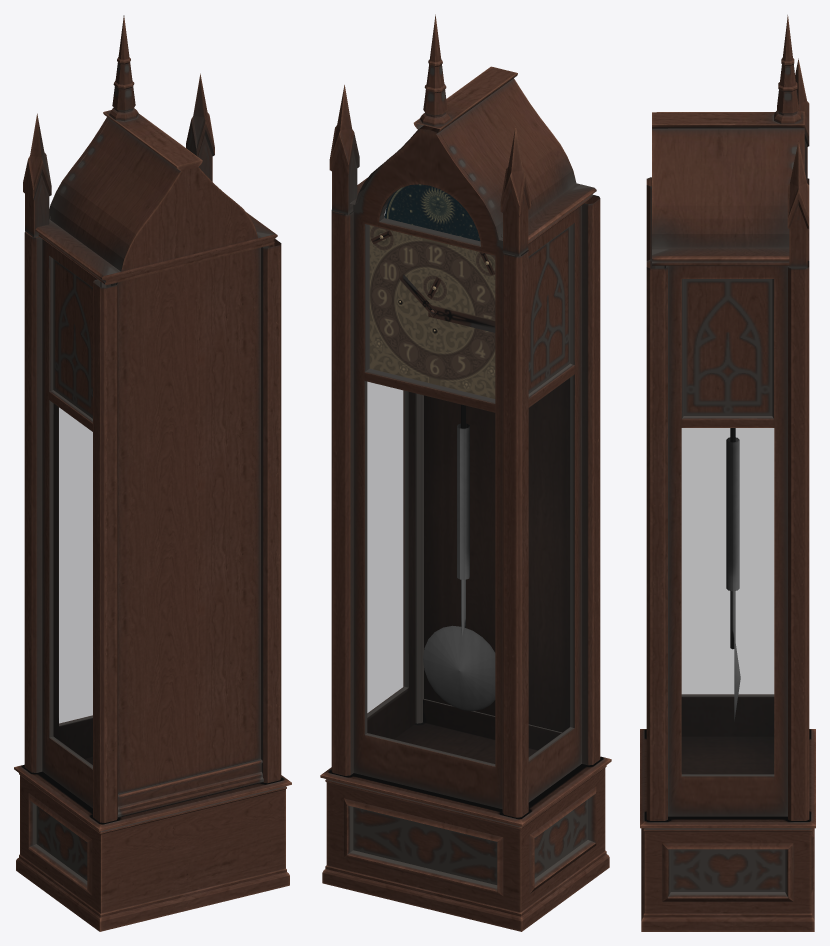
File: ARC0510126.fbx
3 renders of one model, left to right at view 1: azimuth 30°, elevation 25°; view 2: azimuth 150°, elevation 25°; view 3: azimuth 270°, elevation 25°, orthographic. The views are drawn at different scales.
Parts seen in each view (by area): view 1: smARC0510126; view 2: smARC0510126; view 3: smARC0510126.
Part boxes in pixels (left/top/right/bottom): smARC0510126: left=14, top=15, right=291, bottom=931; smARC0510126: left=320, top=14, right=611, bottom=931; smARC0510126: left=640, top=15, right=815, bottom=931.
Bounding box in the file's own units: 69.6 × 291 × 53.36.
Materials: 2 (1 with a texture image).
